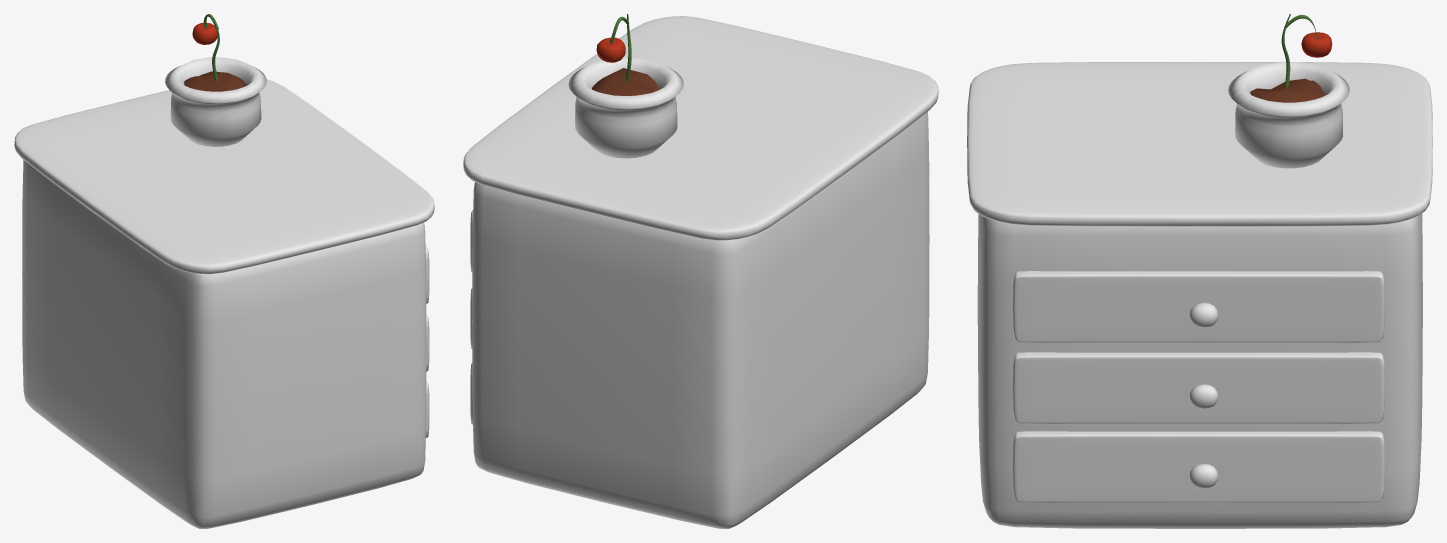
File: Mesita de noche.fbx
3 views of the same model, side by side, from view 1: azimuth 30°, elevation 25°; view 2: azimuth 150°, elevation 25°; view 3: azimuth 270°, elevation 25° (orthographic). The views are drawn at different scales.
Parts seen in each view (by area): view 1: Cube, Cube.007, Circle, Plane; view 2: Cube, Cube.007, Circle, Plane, Tomate; view 3: Cube.007, Cube, Cube.002, Cube.003, Cube.001, Circle, Plane, Tomate, Cube.004, Cube.006, Cube.005.
Boxes of the visible parts, x1,y1,x2,y2 form: Cube: (22,160,426,528); Cube.007: (14,79,434,274); Circle: (165,57,266,146); Plane: (184,71,246,112); Cube: (472,112,929,528); Cube.007: (463,16,938,240); Circle: (568,57,683,158); Plane: (592,68,658,95); Tomate: (596,37,625,62); Cube.007: (967,62,1432,226); Cube: (977,213,1422,528); Cube.002: (1012,352,1385,423); Cube.003: (1012,431,1385,502); Cube.001: (1012,271,1385,342); Circle: (1228,61,1349,168); Plane: (1250,78,1324,102); Tomate: (1301,32,1332,57); Cube.004: (1189,302,1218,327); Cube.006: (1189,463,1218,488); Cube.005: (1189,384,1218,408).
Size of the model in its own units: 255 by 346 by 309.
